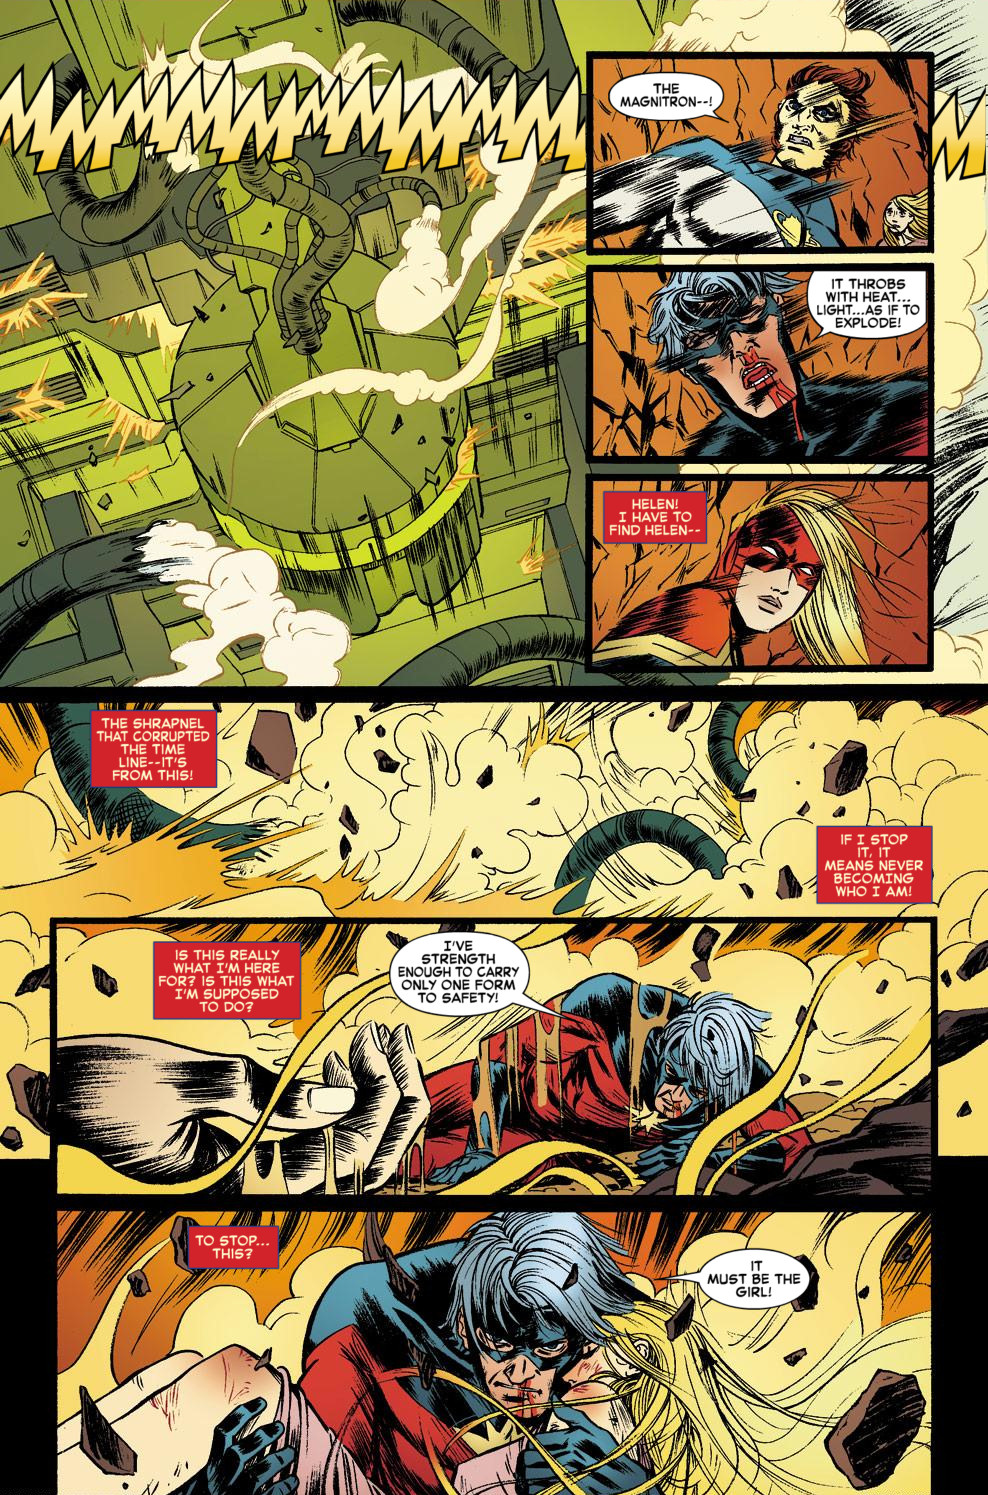Baloon: (390, 934, 576, 1031), (151, 943, 304, 1020), (806, 265, 939, 343), (88, 709, 217, 788), (817, 818, 935, 902), (674, 1250, 810, 1306), (608, 72, 729, 125), (606, 490, 708, 545), (187, 1222, 276, 1274)
Vignetta: (4, 3, 988, 688), (1, 700, 988, 1152), (49, 1206, 932, 1495), (51, 919, 942, 1202), (588, 470, 935, 675), (586, 263, 938, 461), (586, 54, 938, 250)
